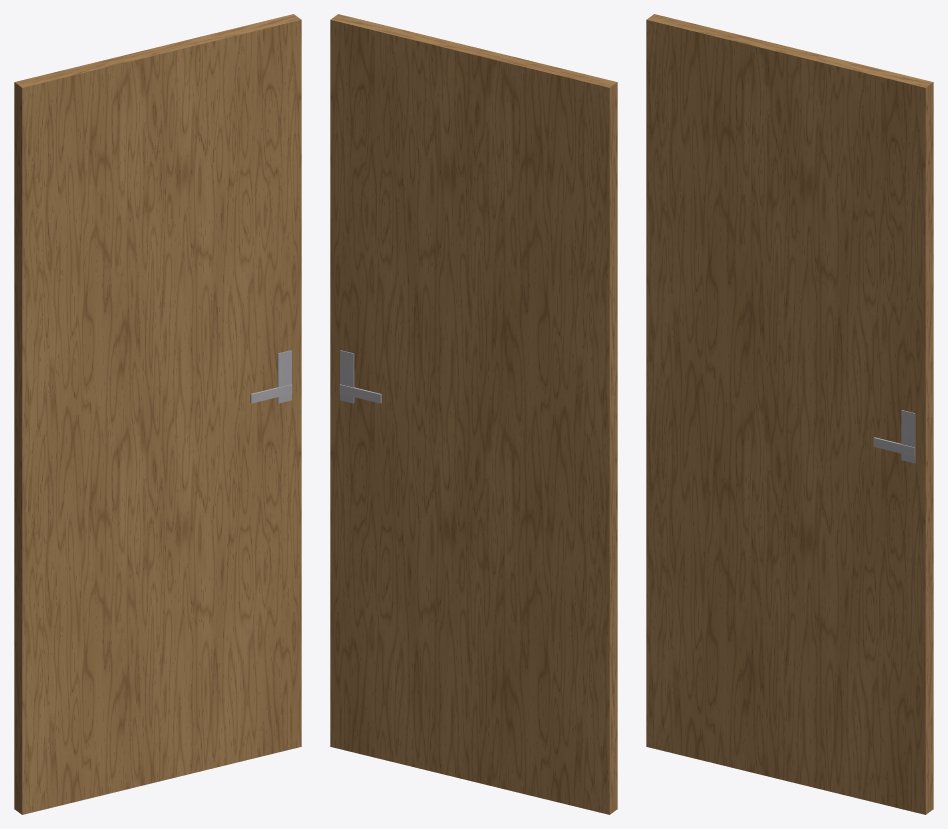
3 renders of one model, left to right at view 1: azimuth 30°, elevation 25°; view 2: azimuth 150°, elevation 25°; view 3: azimuth 330°, elevation 25°, orthographic.
Parts seen in each view (by area): view 1: Door_Game; view 2: Door_Game; view 3: Door_Game.
Boxes of the visible parts, x1,y1,x2,y2 form: Door_Game: (14,14,301,814); Door_Game: (330,14,617,814); Door_Game: (646,14,933,814).
Size of the model in its own units: 0.82 by 2.04 by 0.05.
2 materials, 2 textured.
